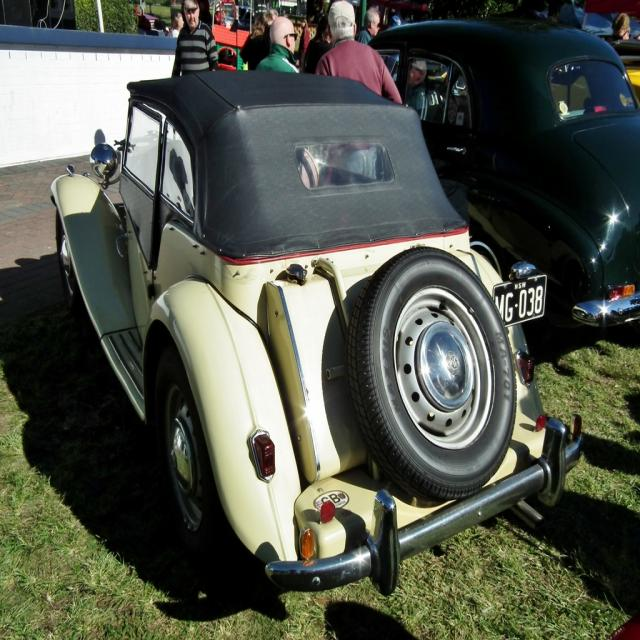car: (50, 62, 580, 600)
